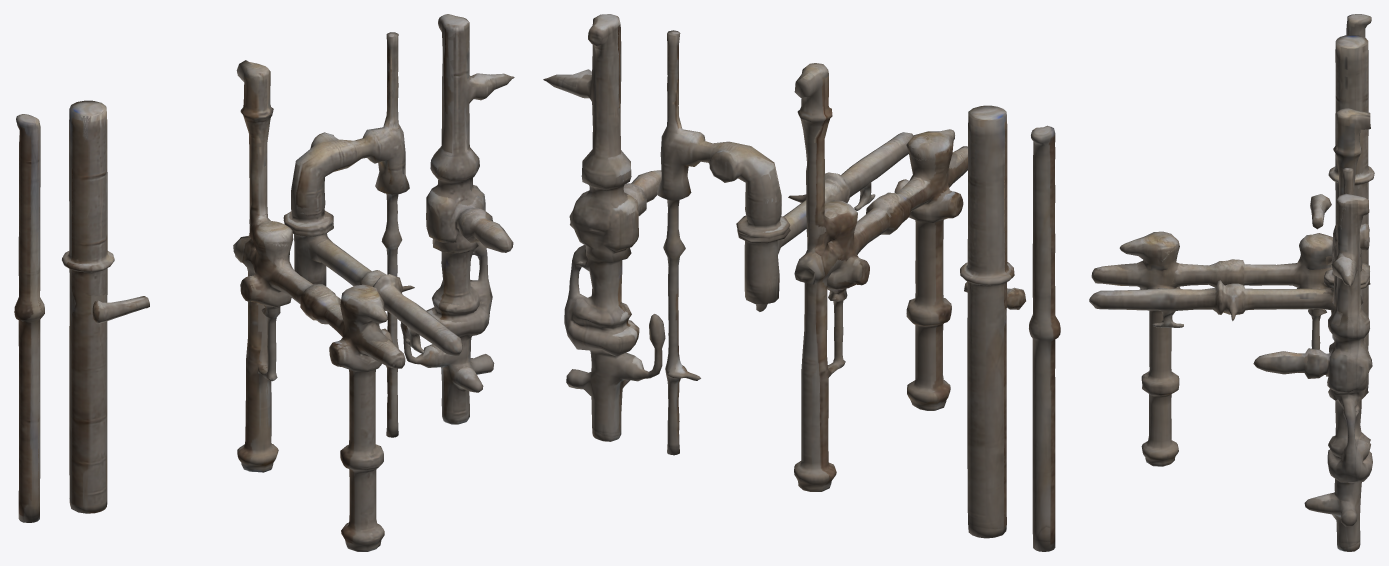
The model's file is Creepy_old_shining_pi_0124161722_stylize.fbx.
3 views of the same model, side by side, from view 1: azimuth 30°, elevation 25°; view 2: azimuth 150°, elevation 25°; view 3: azimuth 270°, elevation 25° (orthographic). The views are drawn at different scales.
Parts seen in each view (by area): view 1: Mesh_0.011; view 2: Mesh_0.011; view 3: Mesh_0.011.
Boxes of the visible parts, x1=… form: Mesh_0.011: x1=14, y1=14, x2=514, y2=551; Mesh_0.011: x1=543, y1=14, x2=1060, y2=551; Mesh_0.011: x1=1089, y1=14, x2=1374, y2=551.
Bounding box in the file's own units: 1292 × 1000 × 735.
1 material, 1 textured.
